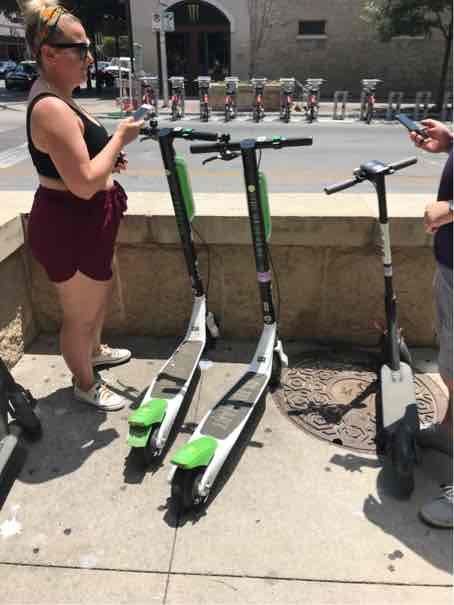scooter: (174, 135, 315, 528), (110, 111, 230, 474)
